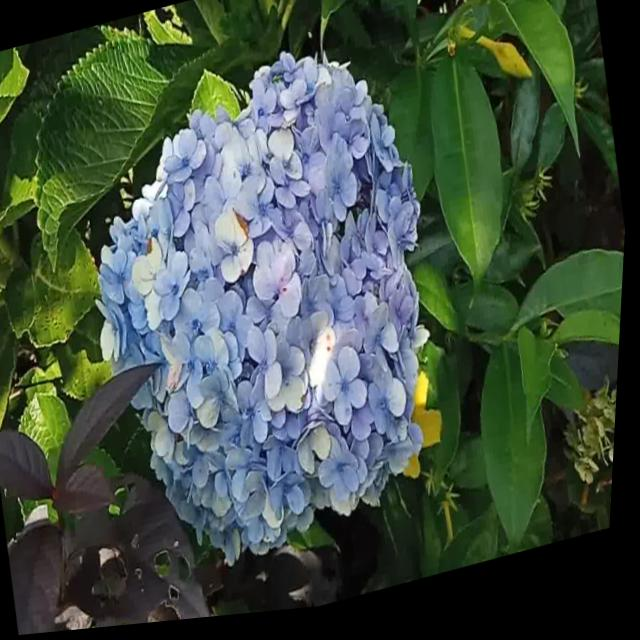Flower: (56, 22, 487, 617)
